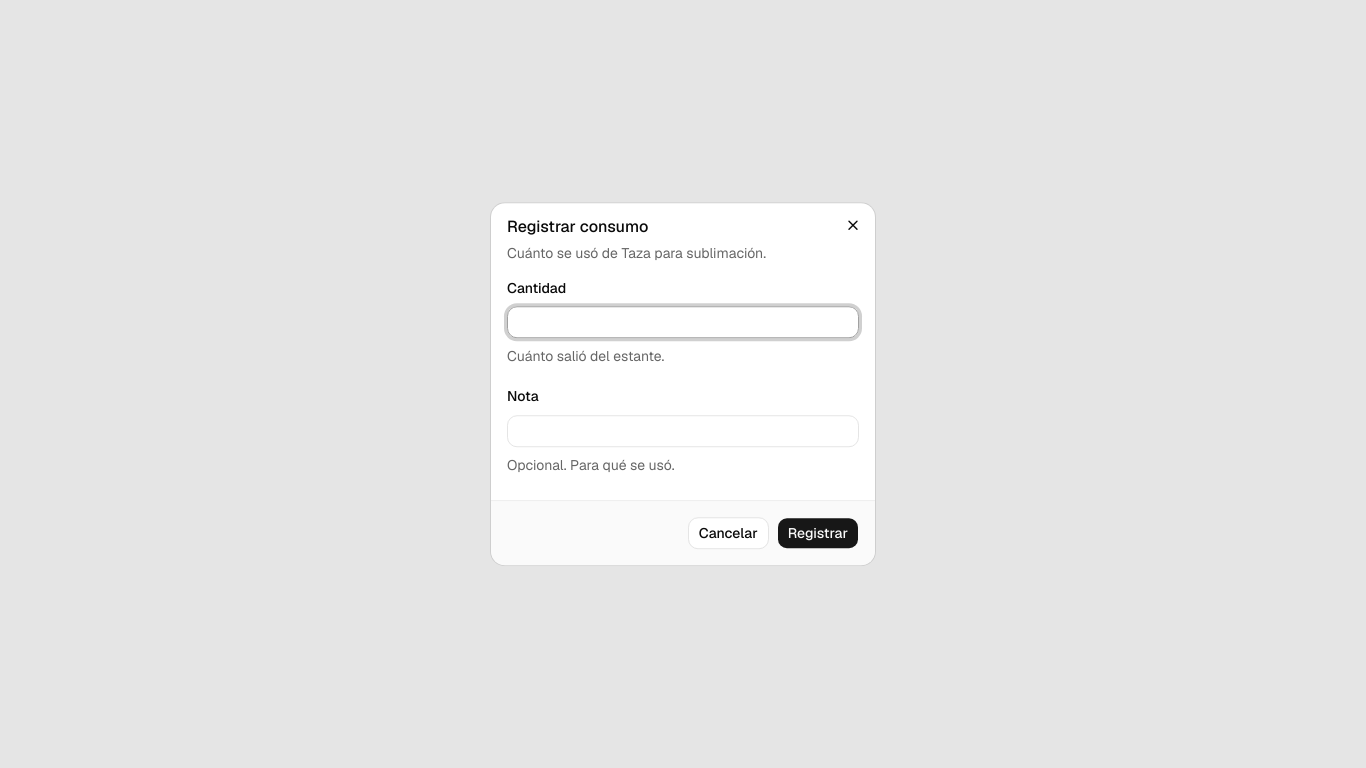
Scenario: ConsumptionDialog › rechaza una cantidad de cero sin llegar a encolar
Type "0" into the field labelled "Cantidad" at (683, 322), box [507,306,859,338]
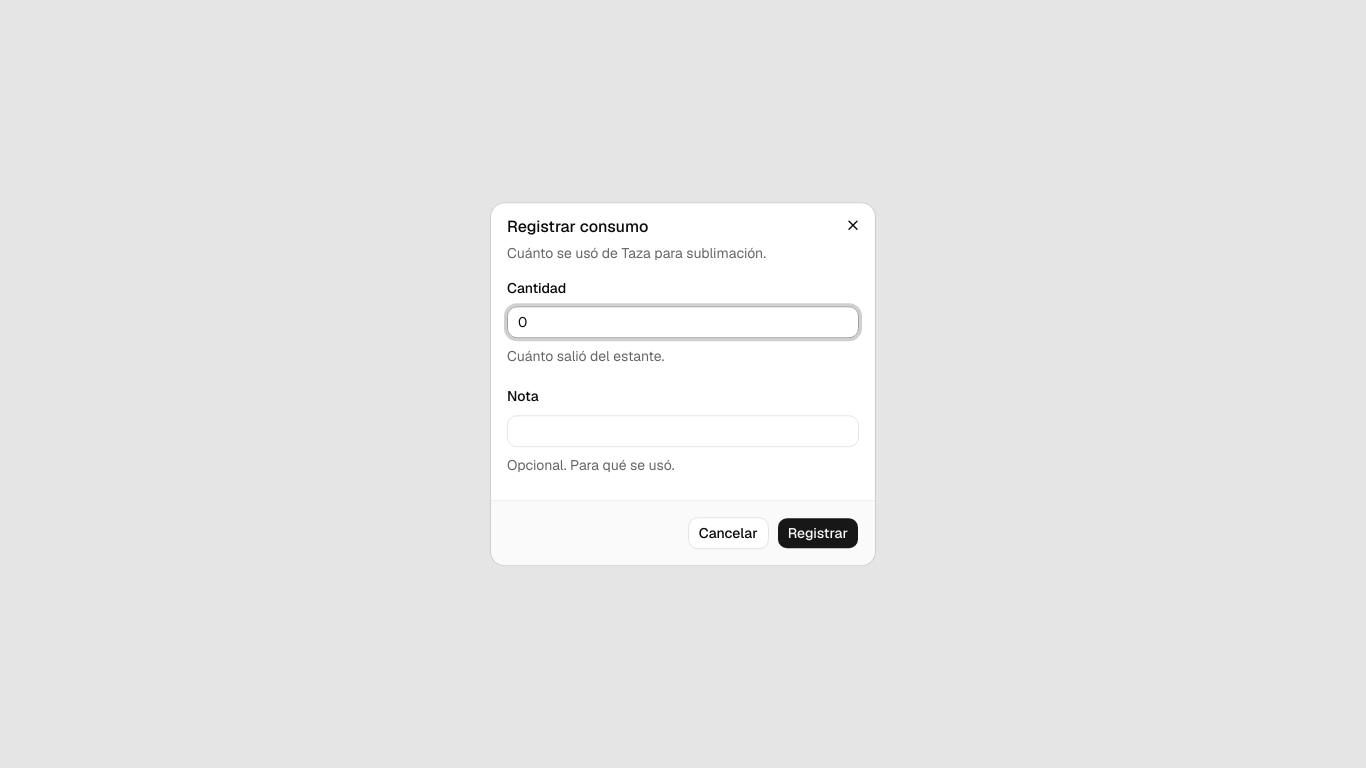
Click the button "Registrar" at (818, 533), box [777,517,859,549]
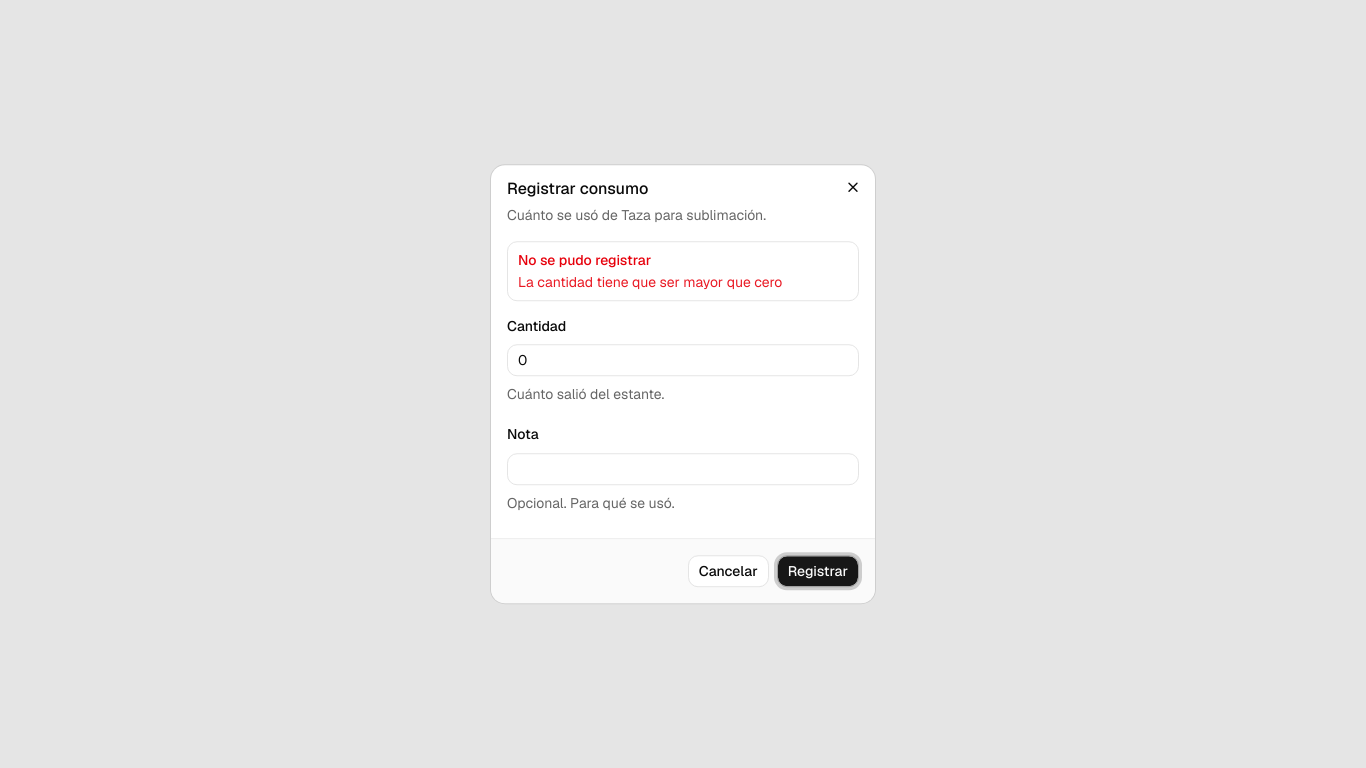
Expected: the text "La cantidad tiene que ser mayor que cero" is shown, [518,273,782,291]
